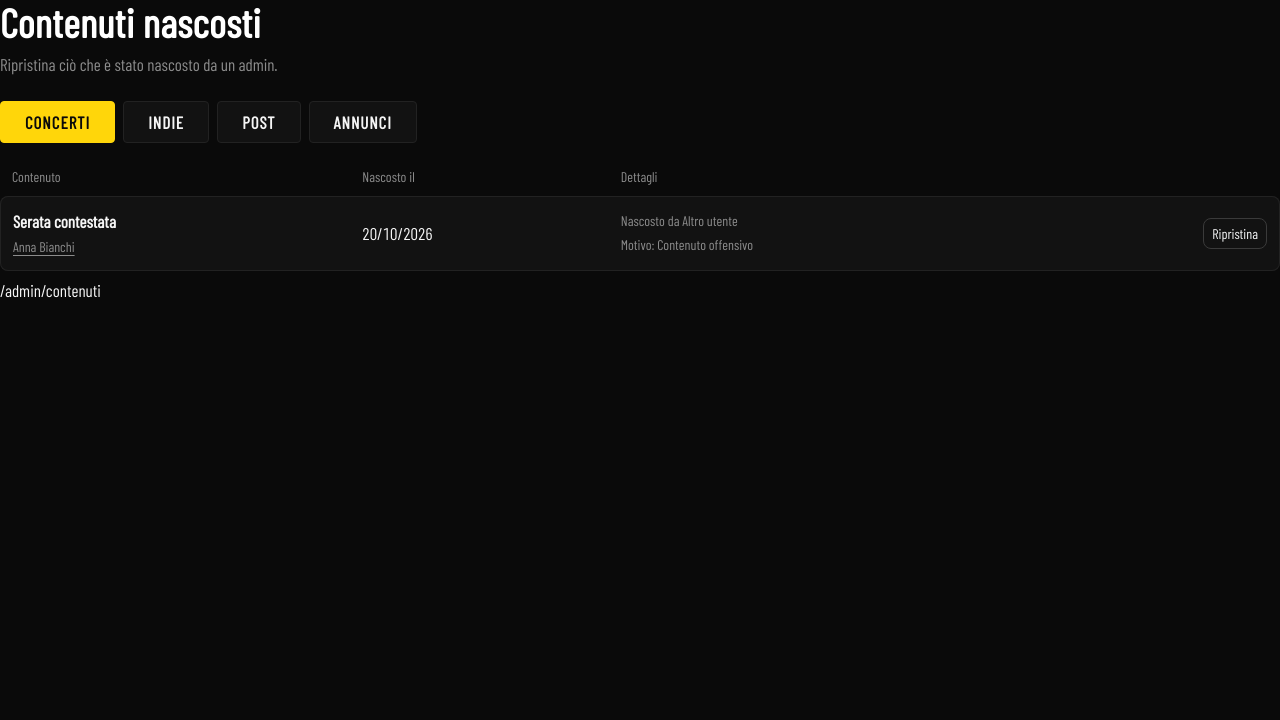
Test: HiddenContentPage · ripristino › con un rifiuto del backend mostra l’errore nella finestra e non conferma
The image size is (1280, 720).
Expected: the text "Serata contestata" is shown, [13, 211, 116, 231]
Step 1. Click the button "Ripristina" → (1235, 233), box [1203, 218, 1267, 248]
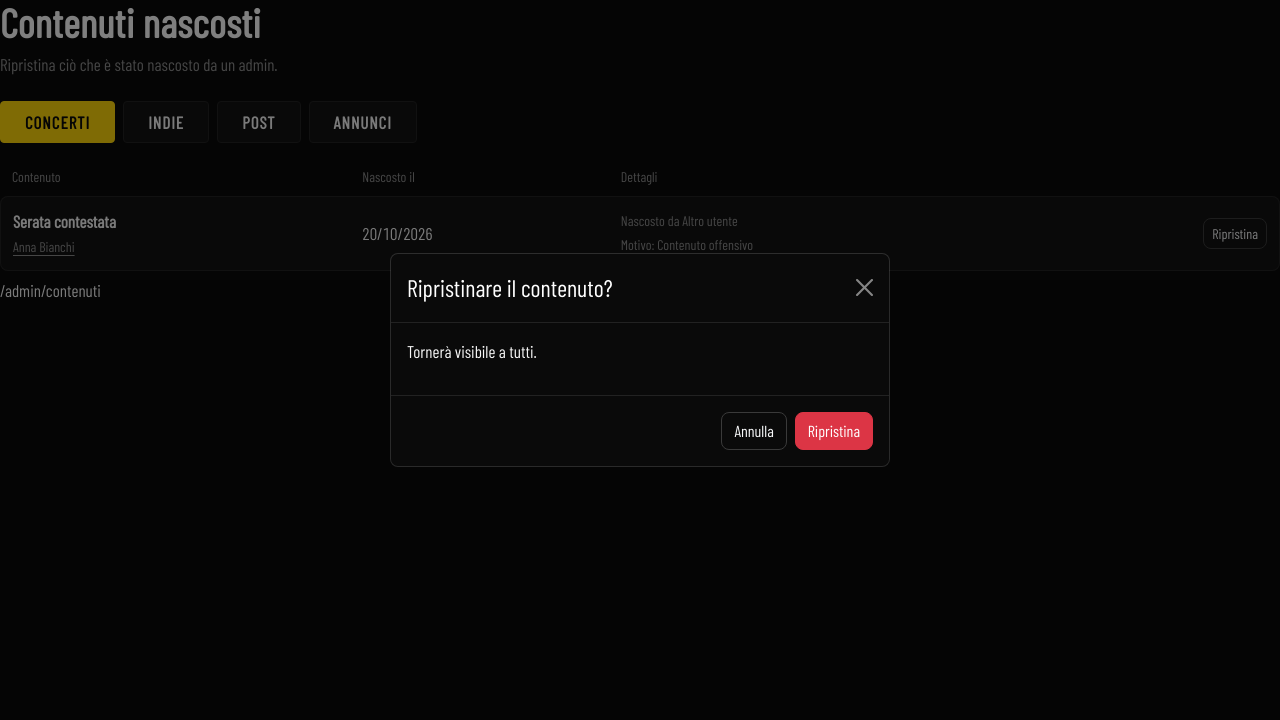
Step 2. Click the button "Ripristina" → (834, 431), box [795, 412, 873, 450]
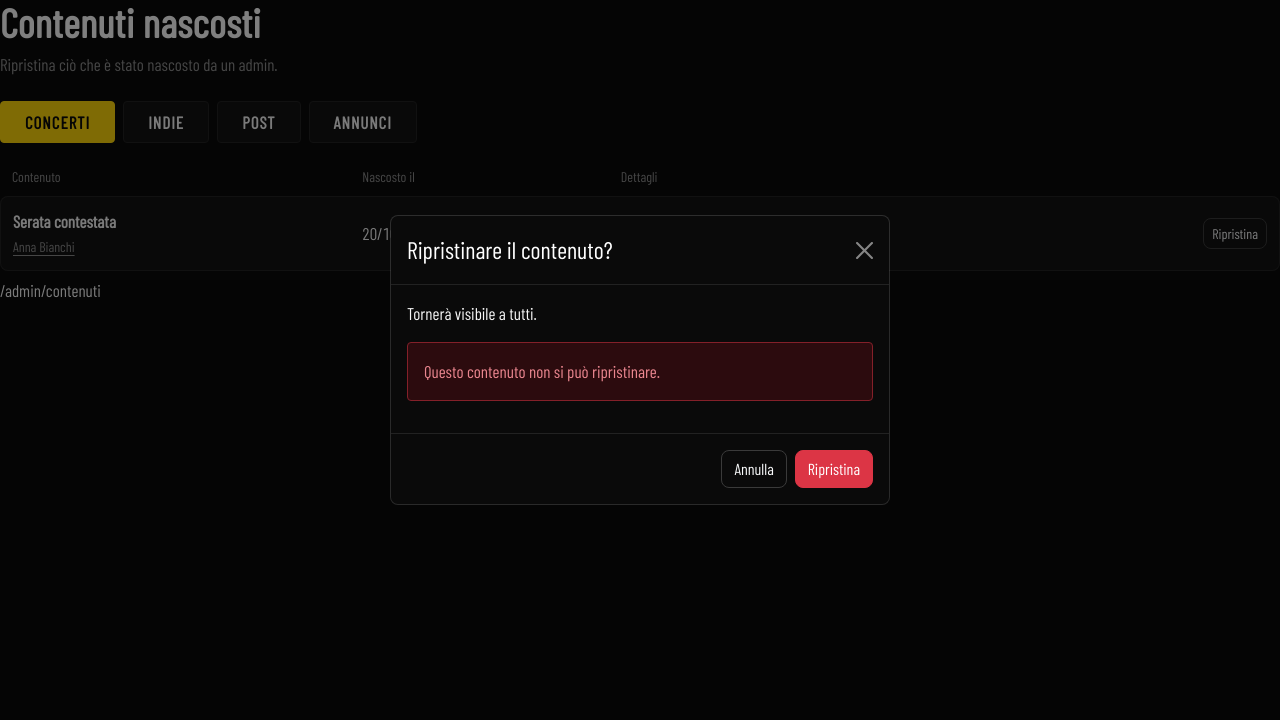
Expected: the message reads "Questo contenuto non si può ripristinare.", [424, 361, 660, 381]
